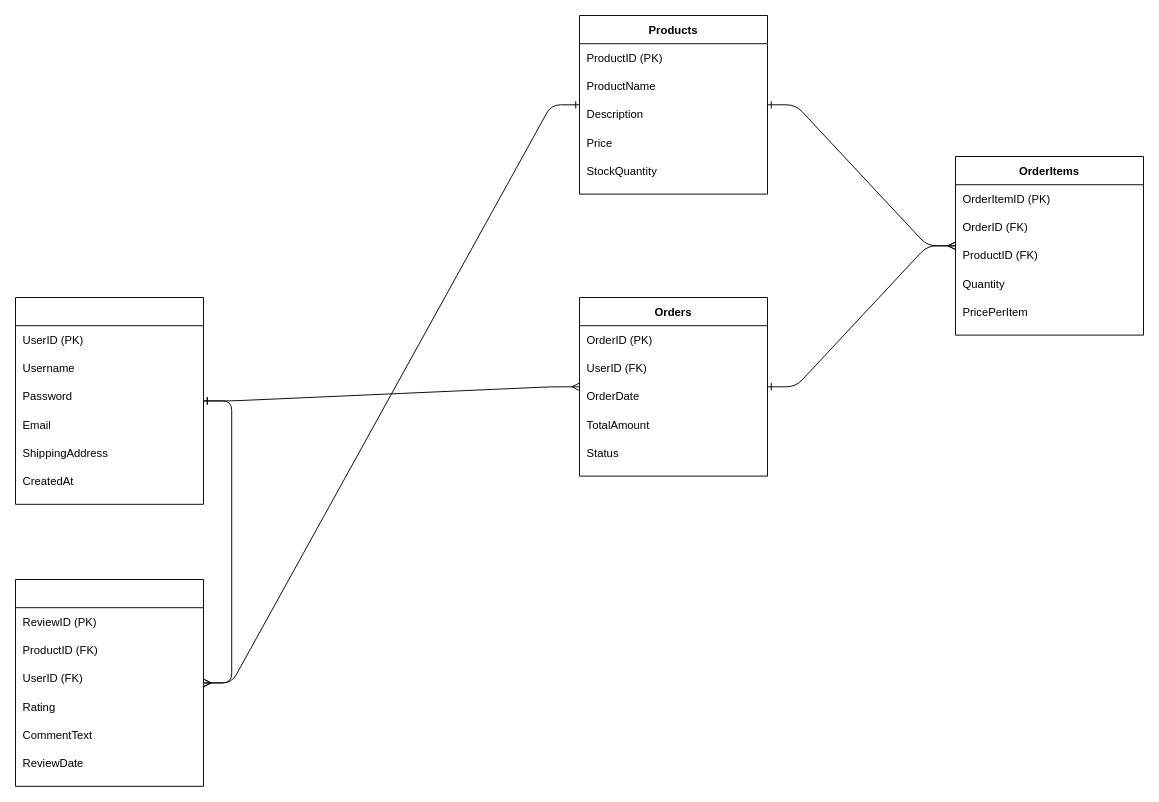
Some shapes in this 1159 by 802 pixel diagram are drawn without their labels. The shapes that lost their labels are listed below. From the top down, each one's box as (x1, y1, x2, y2) in pixels, then its label:
(15, 297, 204, 504): Users
(15, 579, 204, 786): Reviews
